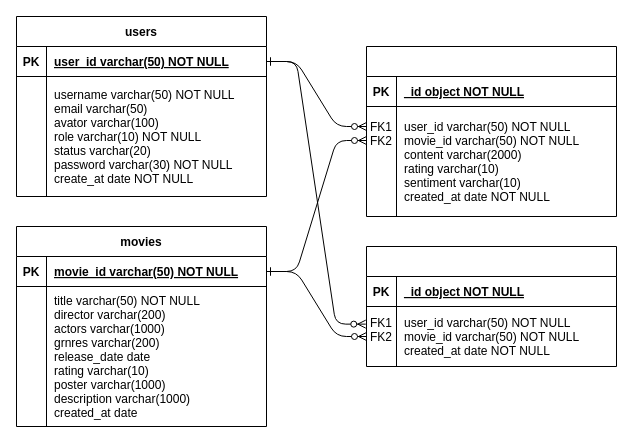
Some shapes in this 633 by 443 pixel diagram are drawn without their labels. The box of each missing label's shape, as (x1, y1, x2, y2) in pixels:
favorites: (366, 246, 616, 366)
reviews: (366, 46, 616, 216)
